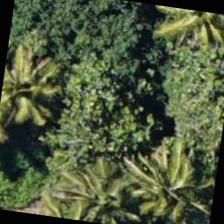Kelapa_Sawit: (125, 132, 221, 223), (0, 44, 82, 144), (60, 164, 158, 223)
